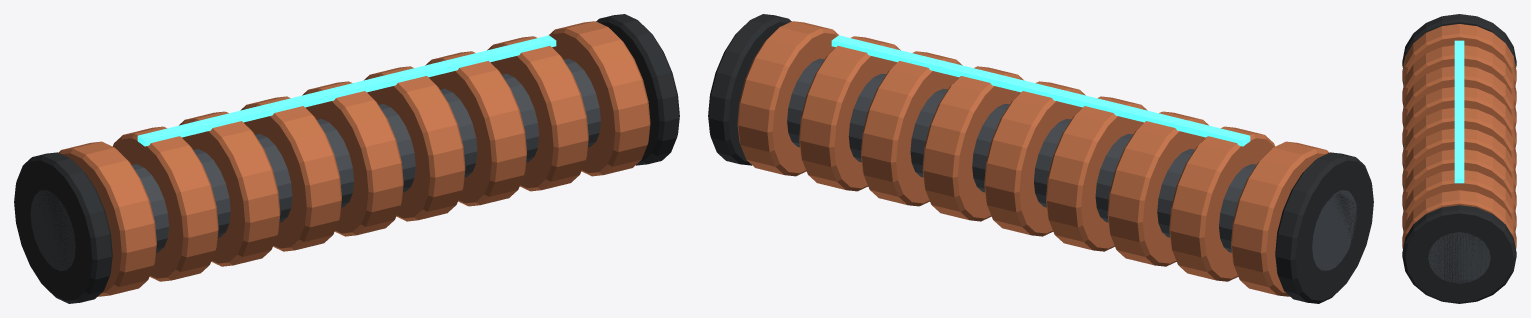
Rendered from attractor_coil.glb.
3 views of the same model, side by side, from view 1: azimuth 30°, elevation 25°; view 2: azimuth 150°, elevation 25°; view 3: azimuth 270°, elevation 25° (orthographic). The views are drawn at different scales.
Visible parts, largest first — view 1: attractor_coil; view 2: attractor_coil; view 3: attractor_coil.
Part boxes in pixels (x1,y1,x2,y2): attractor_coil: (14, 14, 679, 303); attractor_coil: (708, 14, 1373, 303); attractor_coil: (1402, 14, 1516, 303).
Bounding box in the file's own units: 1.15 × 0.26 × 0.28.
